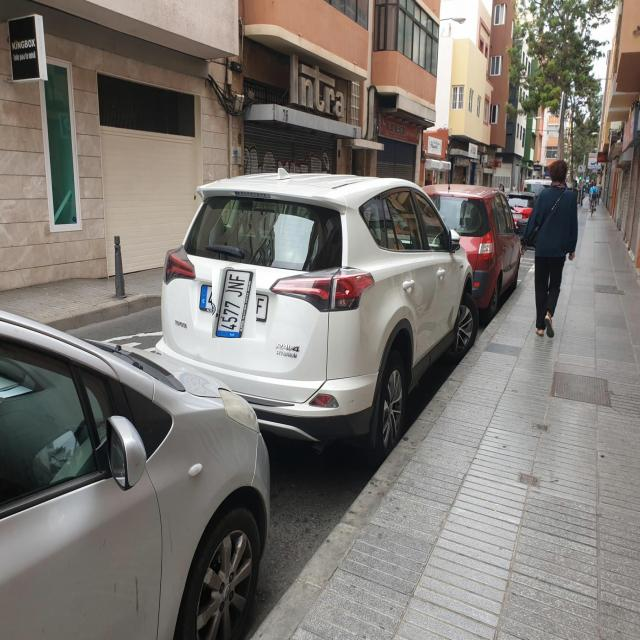License-Plate: (206, 274, 262, 332)
